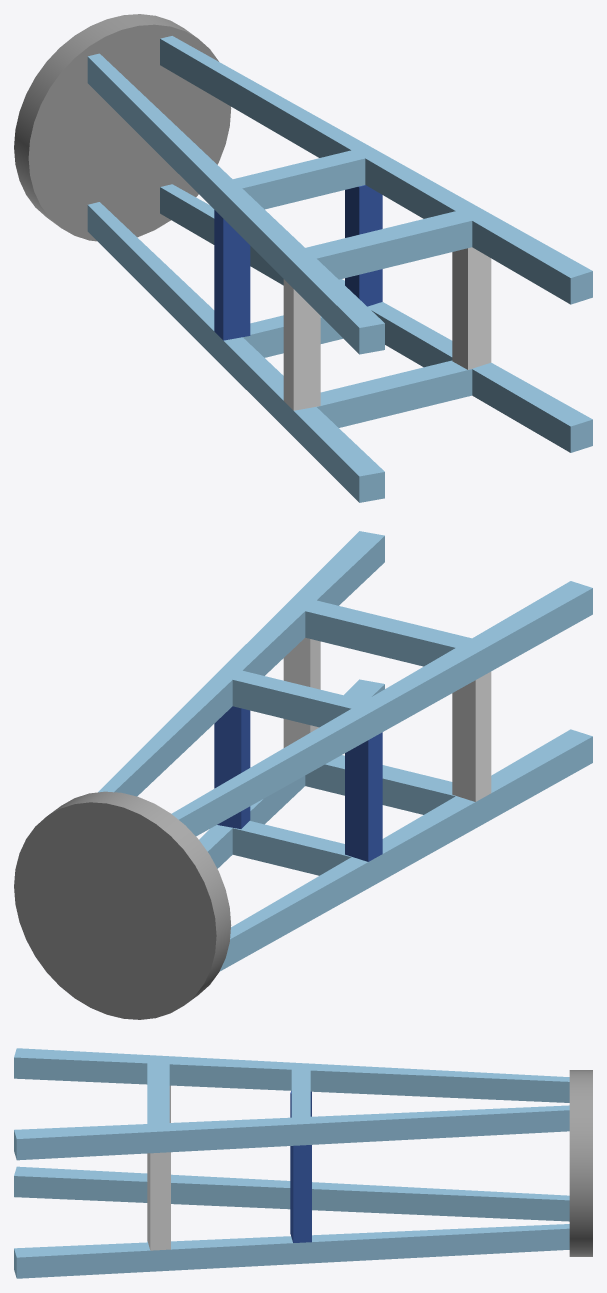
File: Stool.dae
3 renders of one model, top to bottom at view 1: azimuth 30°, elevation 25°; view 2: azimuth 150°, elevation 25°; view 3: azimuth 270°, elevation 25°, orthographic. The views are drawn at different scales.
Visible parts, largest first — view 1: 683c3157e829063e4b127123 (×7); view 2: 683c3157e829063e4b127123 (×7); view 3: 683c3157e829063e4b127123 (×5).
Boxes of the visible parts, x1=… form: 683c3157e829063e4b127123 (×7): x1=14, y1=14, x2=592, y2=502; 683c3157e829063e4b127123 (×7): x1=14, y1=531, x2=592, y2=1019; 683c3157e829063e4b127123 (×5): x1=14, y1=1048, x2=592, y2=1278.
Size of the model in its own units: 0.0234 by 0.063 by 0.0203.
